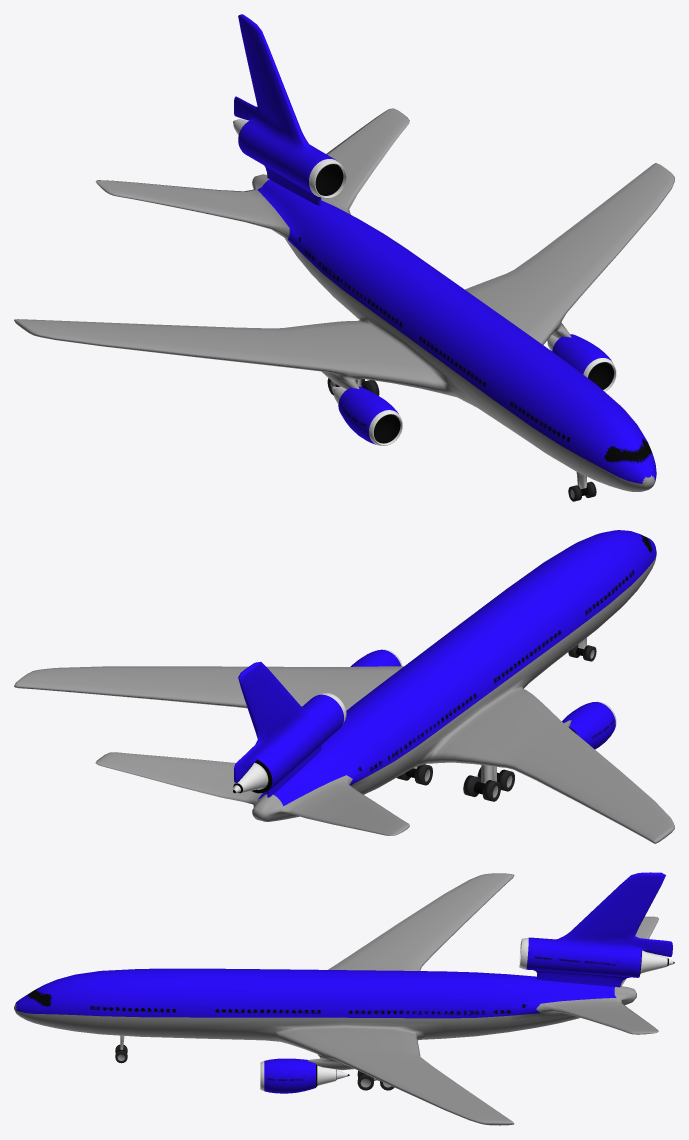
3 views of the same model, one above another, from view 1: azimuth 30°, elevation 25°; view 2: azimuth 150°, elevation 25°; view 3: azimuth 270°, elevation 25° (orthographic). The views are drawn at different scales.
Visible parts, largest first — view 1: 機体; view 2: 機体, メインギア右; view 3: 機体.
Part boxes in pixels (bbox=[...]): 機体: bbox=[14, 14, 674, 491]; 機体: bbox=[14, 530, 674, 843]; メインギア右: bbox=[463, 765, 514, 801]; 機体: bbox=[14, 872, 674, 1125].
Bounding box in the file's own units: 49.24 × 17.18 × 55.16.
Materials: 5 (1 with a texture image).
